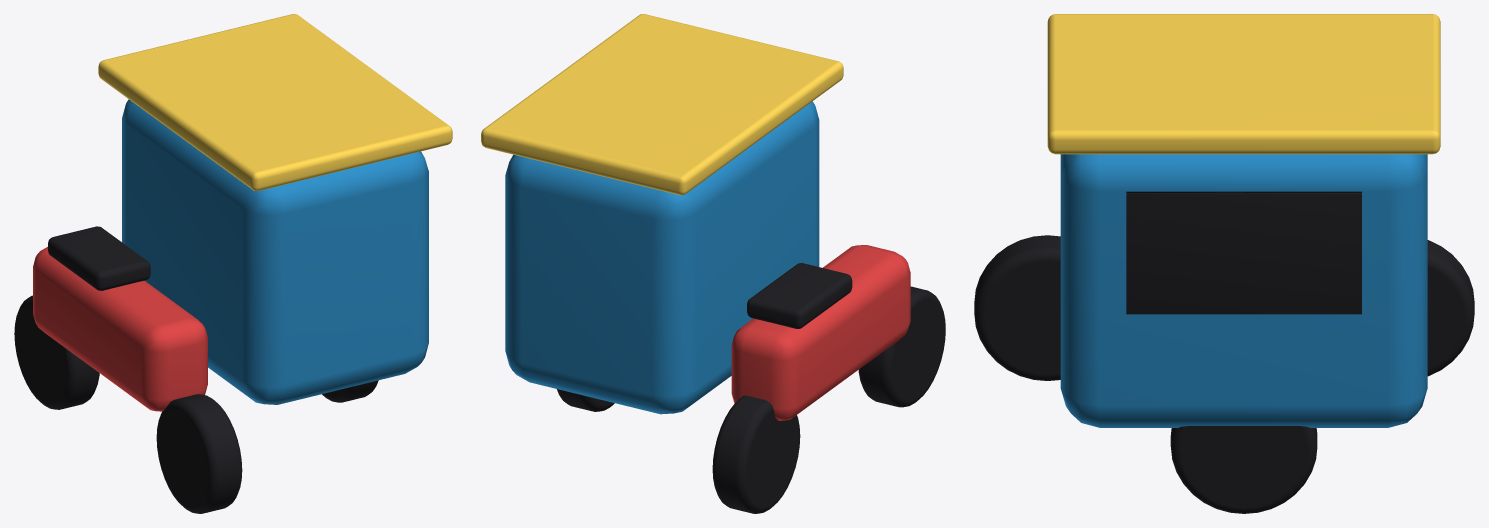
File: tricycle.glb
The picture shows the model from 3 angles, left to right: view 1: azimuth 30°, elevation 25°; view 2: azimuth 150°, elevation 25°; view 3: azimuth 270°, elevation 25°; orthographic projection. The views are drawn at different scales.
Visible parts, largest first — view 1: Tricycle; view 2: Tricycle; view 3: Tricycle.
Boxes of the visible parts, x1,y1,x2,y2 form: Tricycle: [14, 14, 452, 513]; Tricycle: [481, 14, 945, 513]; Tricycle: [974, 14, 1474, 513].
Size of the model in its own units: 1.57 by 1.67 by 1.91.
